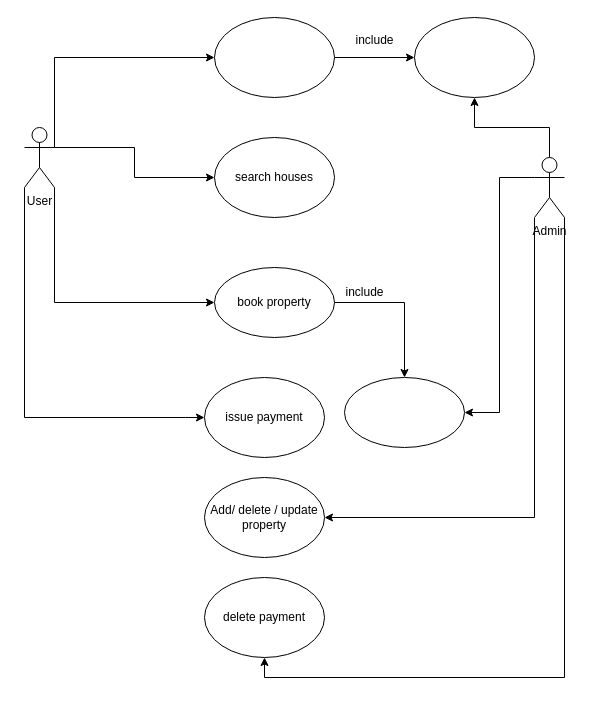
This 590x703 diagram has some shape labels left out. Here are the shapes that lost their labels. From the top down, the centre of each, then its label:
At point 274,57: "Register/login".
At point 474,57: "Add / delete / update account".
At point 404,412: "Add / delete / update booking".
